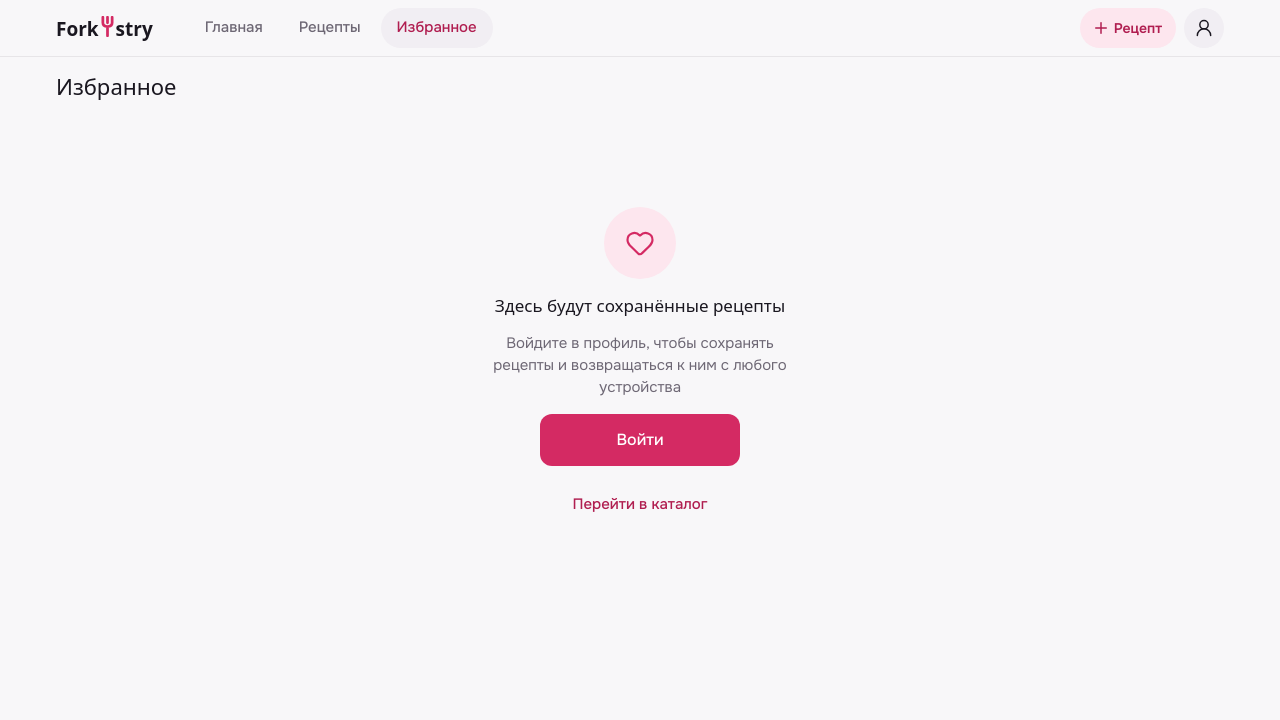
Test: формы входа и регистрации › успешный вход возвращает туда, откуда пришли
This screenshot has width=1280, height=720.
Click the link "Войти". click: [640, 440]
box: [540,414,740,466]
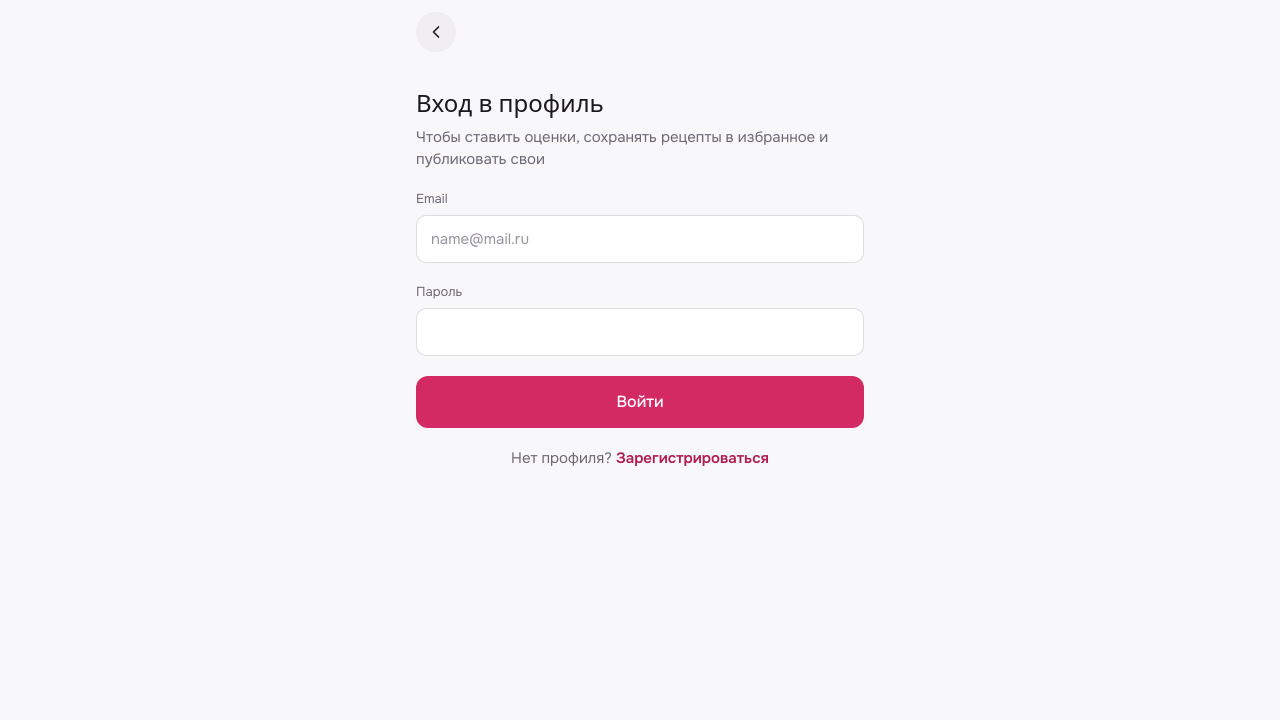
Type "test@example.com" into the field labelled "Email". click: [640, 239]
box: [416,215,864,263]
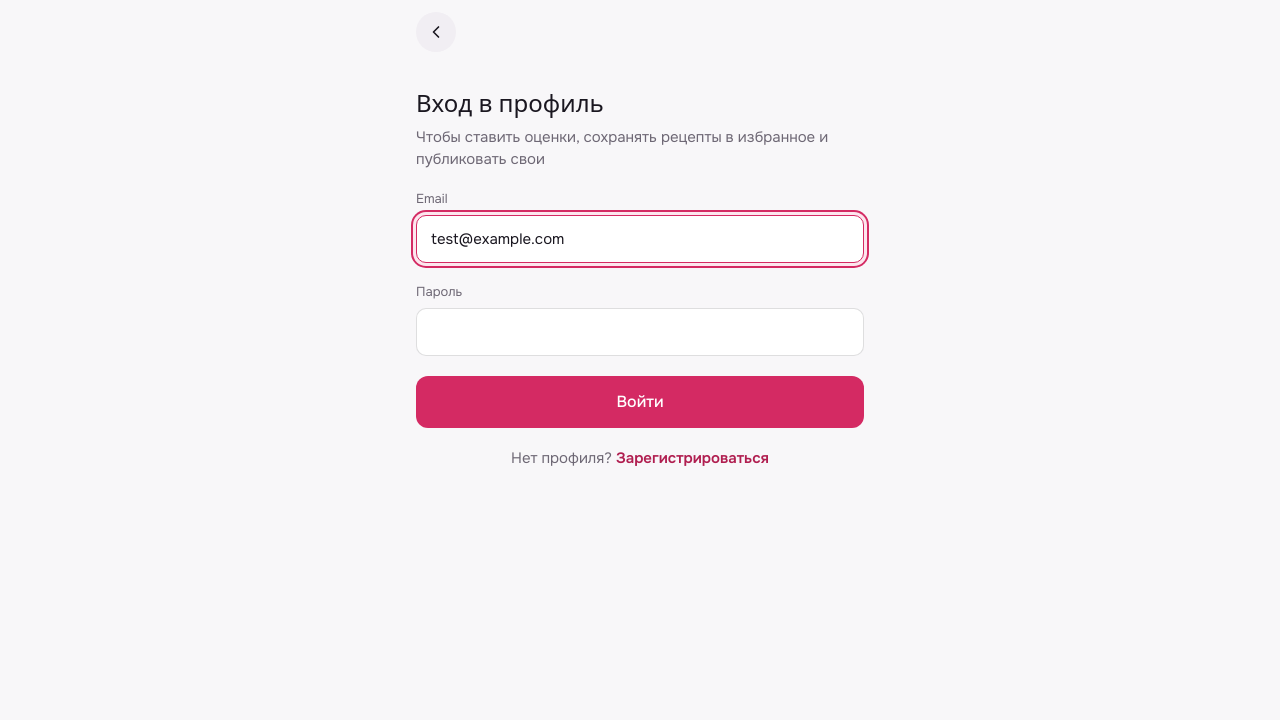
Type "secret123" into the password field labelled "Пароль". click: [640, 332]
box: [416,308,864,356]
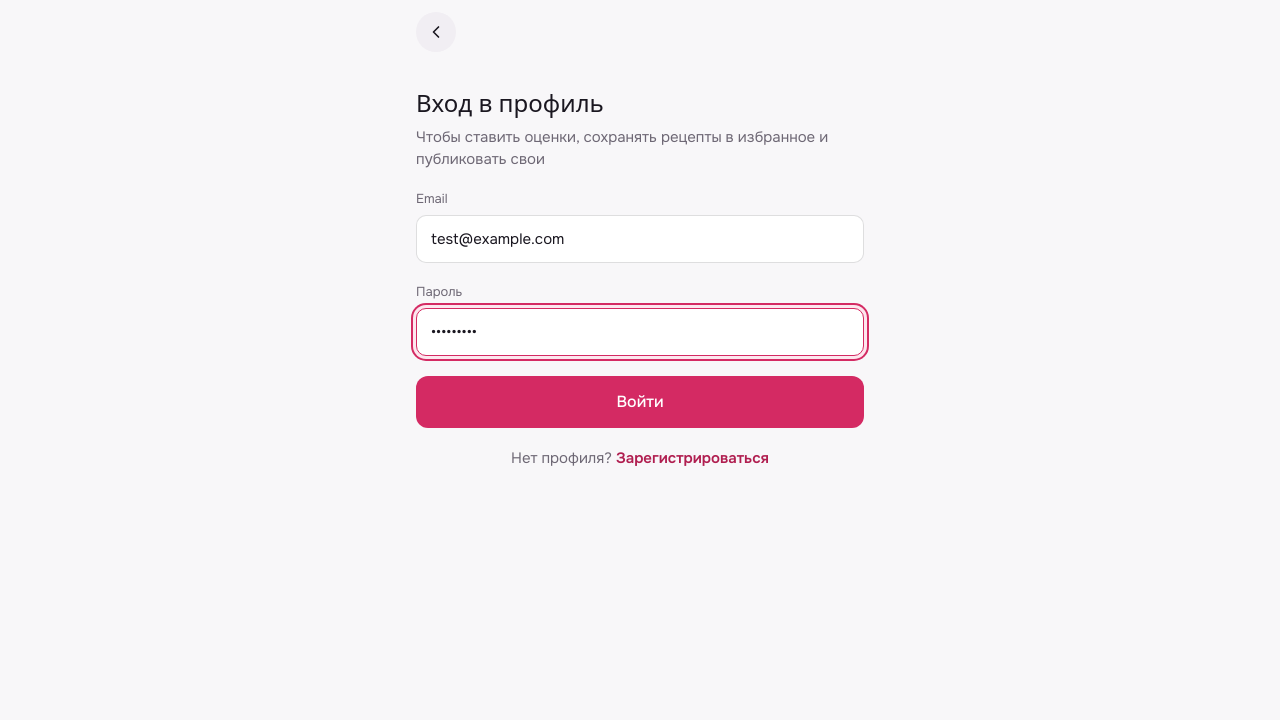
Click the button "Войти". click: [640, 402]
box: [416,376,864,428]
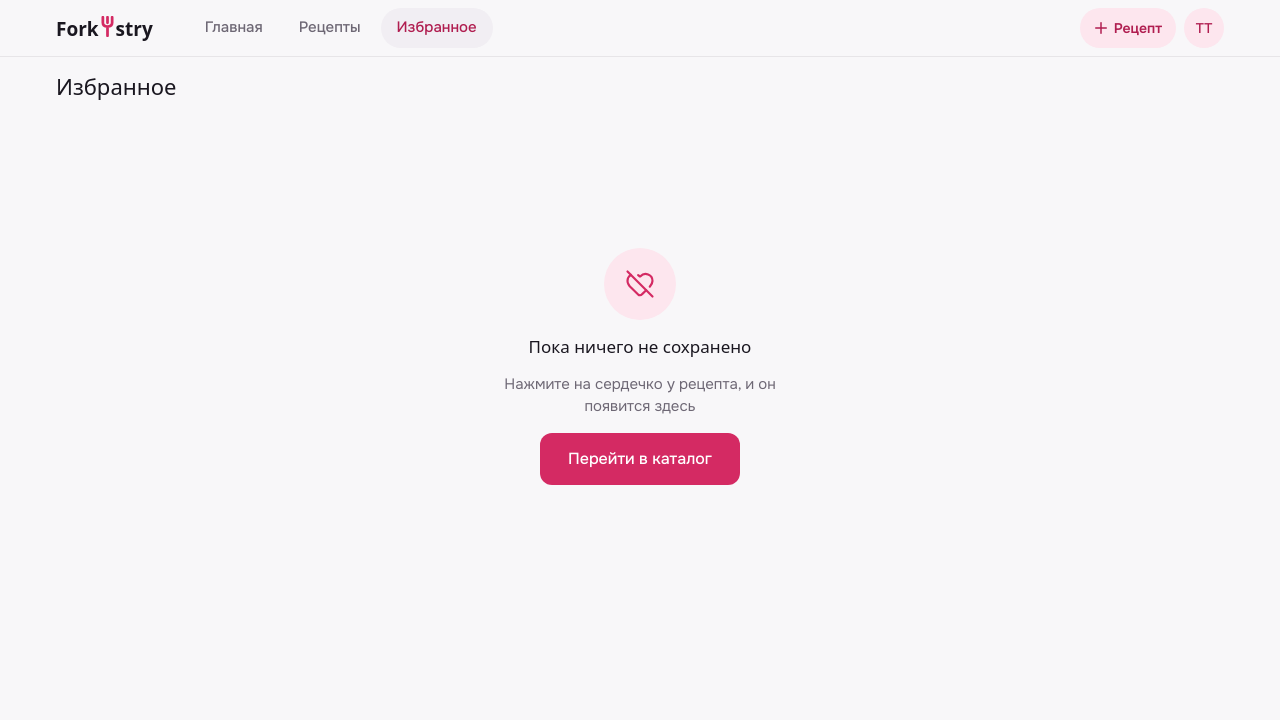
Now the heading "Пока ничего не сохранено" is shown, box [529,336,751,357]
